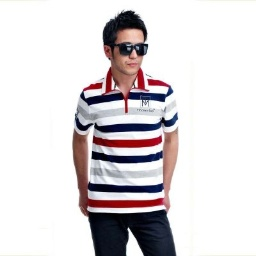face: (102, 11, 148, 77)
